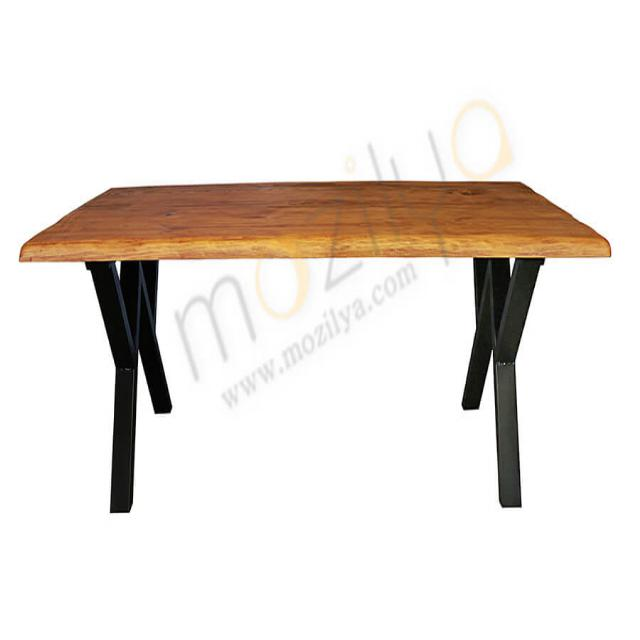Table: (15, 123, 630, 549)
